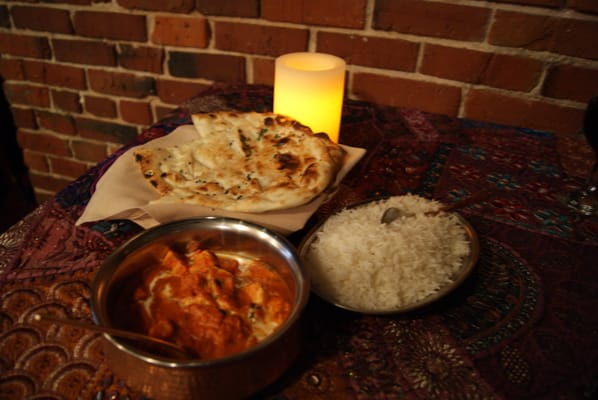pizza: (273, 51, 347, 145)
sushi: (90, 218, 311, 396)
